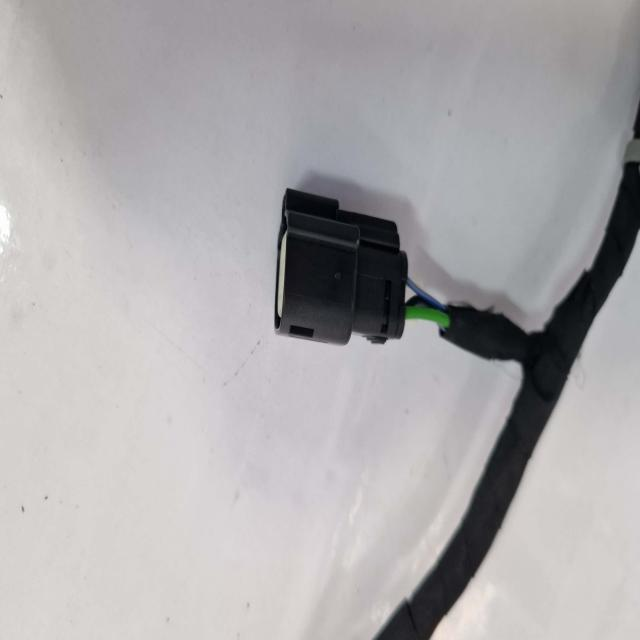Clip: (624, 138, 640, 164)
Connector: (272, 187, 408, 349)
Gape: (405, 266, 453, 347)
MHEV_N11_Cable: (383, 172, 627, 629)
